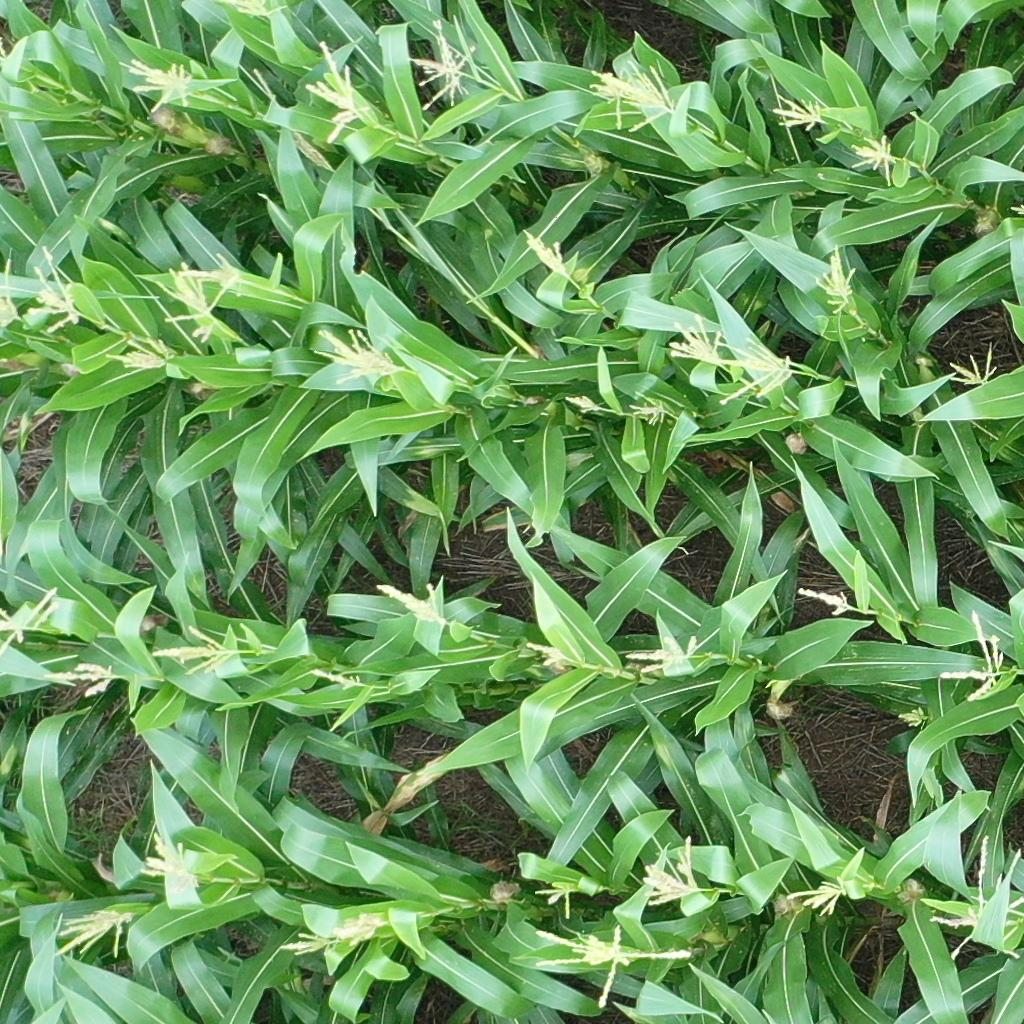Tassel: (535, 926, 692, 1009), (930, 833, 1024, 964), (303, 38, 370, 148), (407, 16, 482, 108), (716, 332, 803, 409), (163, 254, 244, 336), (588, 60, 681, 131), (937, 610, 1009, 701), (308, 319, 398, 387), (637, 835, 705, 910), (25, 246, 84, 331), (116, 50, 198, 105), (154, 625, 239, 678), (1, 587, 64, 656), (139, 829, 206, 892), (54, 909, 133, 961), (665, 312, 729, 368), (375, 580, 449, 626), (622, 633, 701, 673), (845, 130, 903, 183), (815, 249, 859, 315), (522, 231, 576, 283), (787, 877, 850, 921), (945, 338, 998, 390), (47, 659, 119, 697), (105, 333, 175, 372), (767, 94, 828, 132), (335, 910, 388, 948), (534, 882, 579, 924), (796, 584, 853, 617), (1, 257, 25, 328), (626, 393, 674, 427), (311, 667, 370, 692), (558, 386, 603, 417), (278, 932, 330, 957), (222, 1, 285, 21), (531, 641, 570, 666), (899, 706, 931, 730), (1010, 202, 1024, 214)
